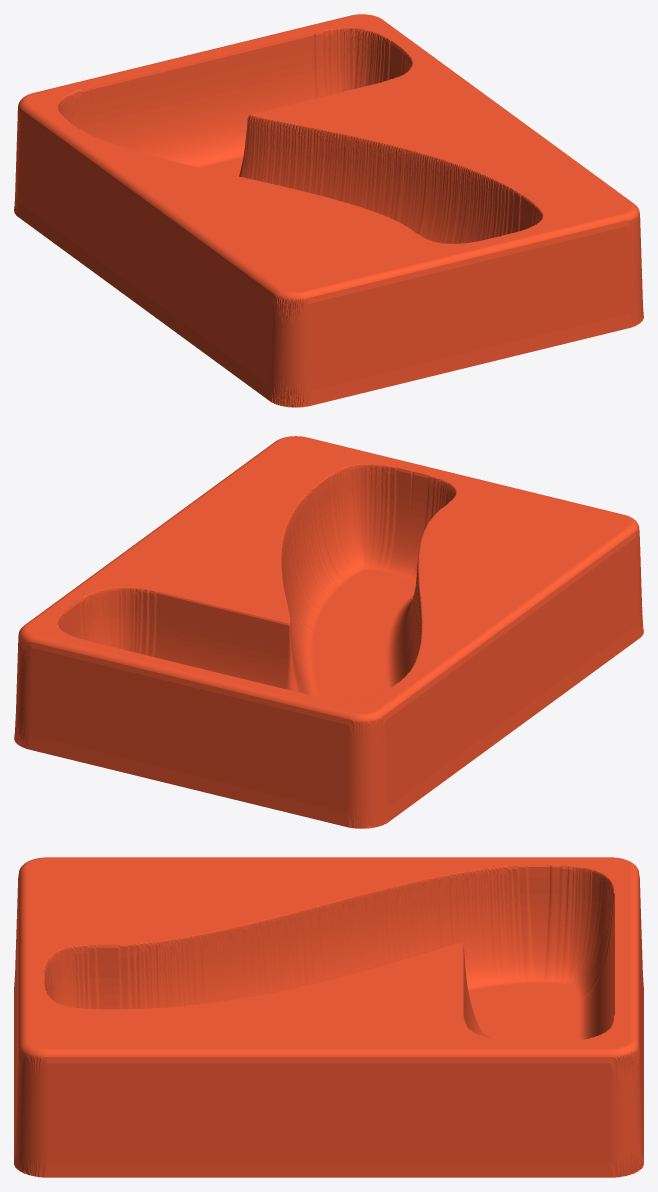
File: mold.glb
3 views of the same model, one above another, from view 1: azimuth 30°, elevation 25°; view 2: azimuth 150°, elevation 25°; view 3: azimuth 270°, elevation 25° (orthographic). The views are drawn at different scales.
Parts seen in each view (by area): view 1: geometry_0; view 2: geometry_0; view 3: geometry_0.
Part boxes in pixels (x1,y1,x2,y2): geometry_0: (14,14,643,407); geometry_0: (14,436,643,828); geometry_0: (14,857,643,1177).
Size of the model in its own units: 0.1281 by 0.0365 by 0.1689.
